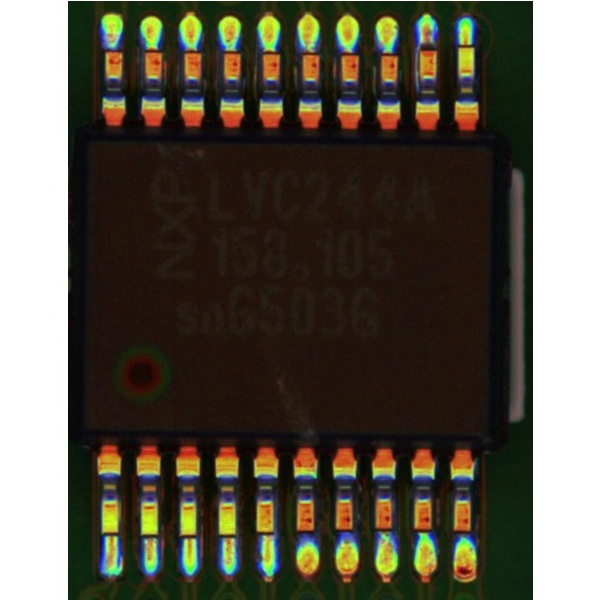Bad_podu: (420, 29, 432, 60), (220, 522, 234, 546), (459, 31, 471, 56), (143, 525, 155, 549), (182, 524, 194, 547), (104, 523, 116, 546), (260, 527, 271, 547)
Bad_qiaojiao: (413, 42, 418, 90)
